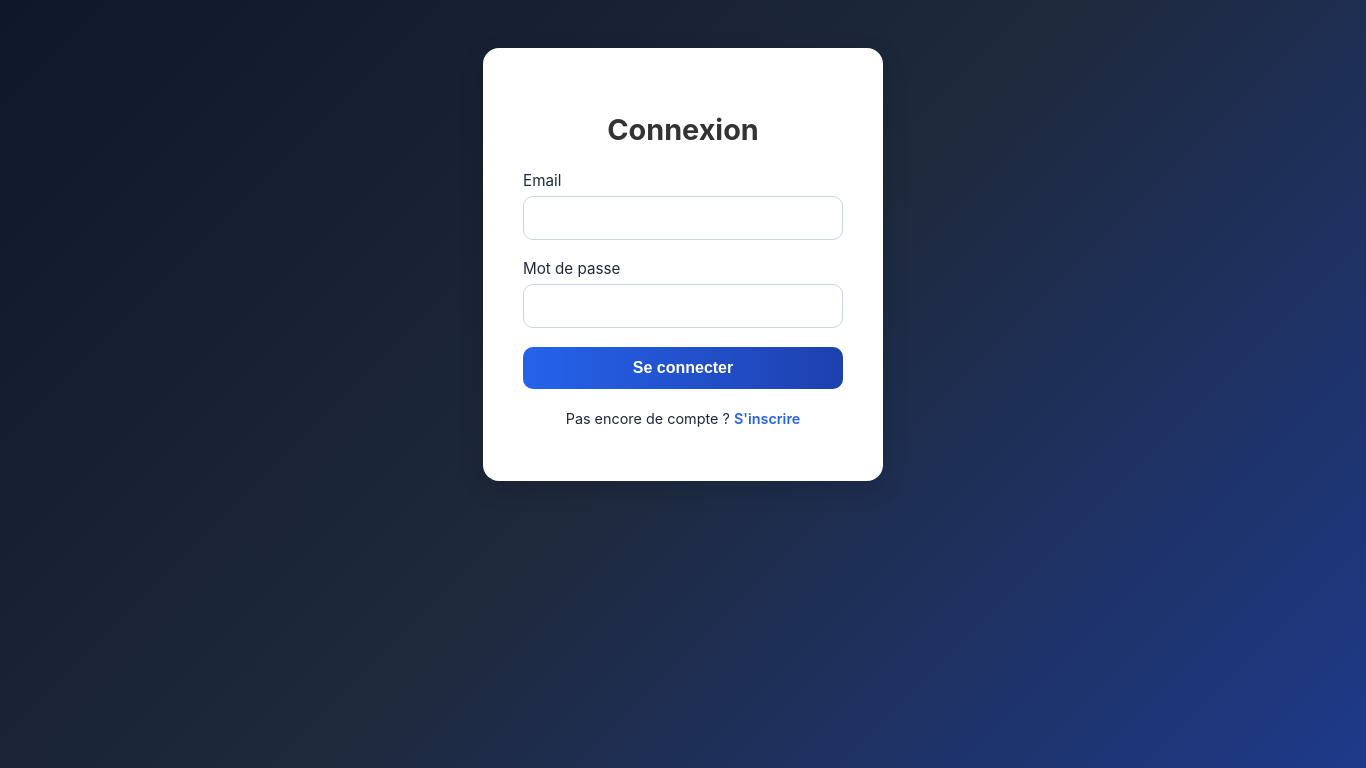
Test: Login Component › gère une connexion réussie : appel API, update contexte et redirection
// Remplissage du formulaire
Type "test@exemple.com" into the field labelled "Email" at coordinates (683, 218), box [523,196,843,240]
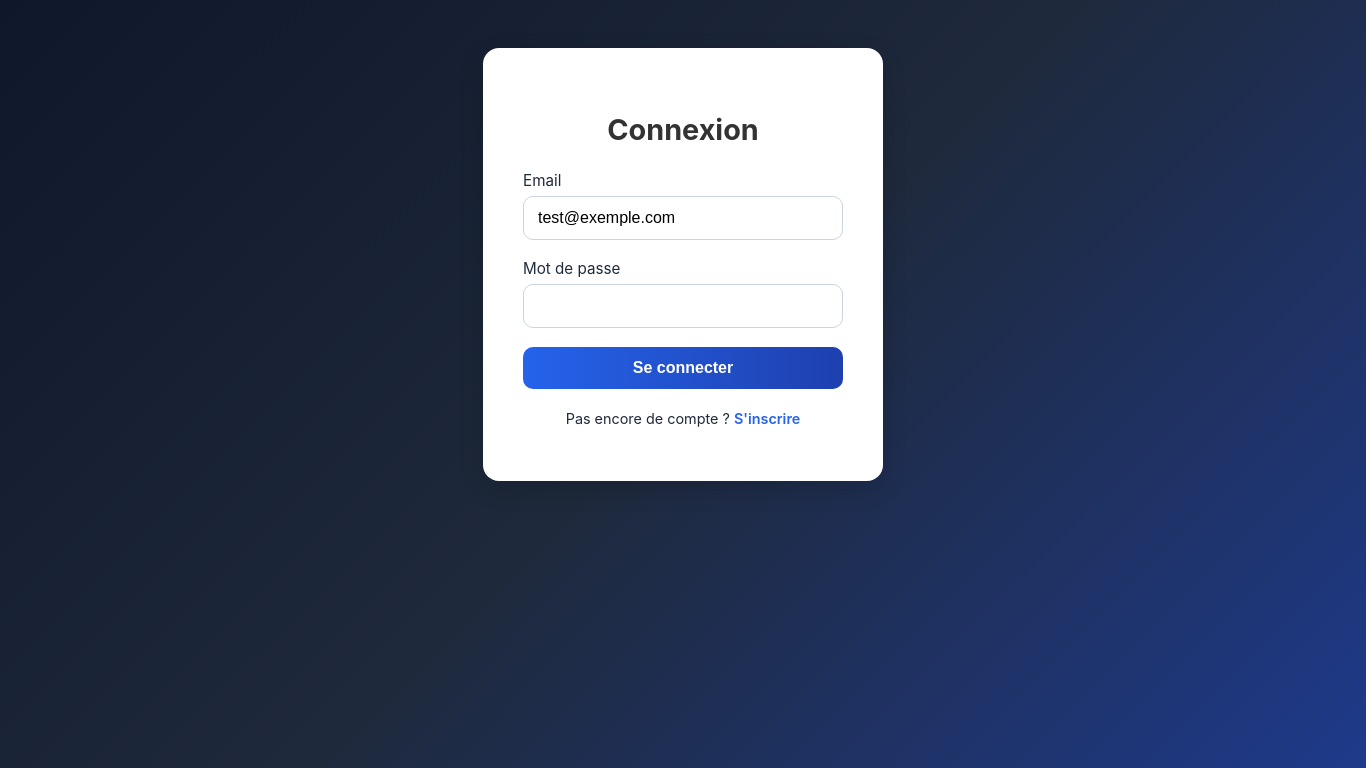
Type "secret123" into the password field labelled "Mot de passe" at coordinates (683, 306), box [523,284,843,328]
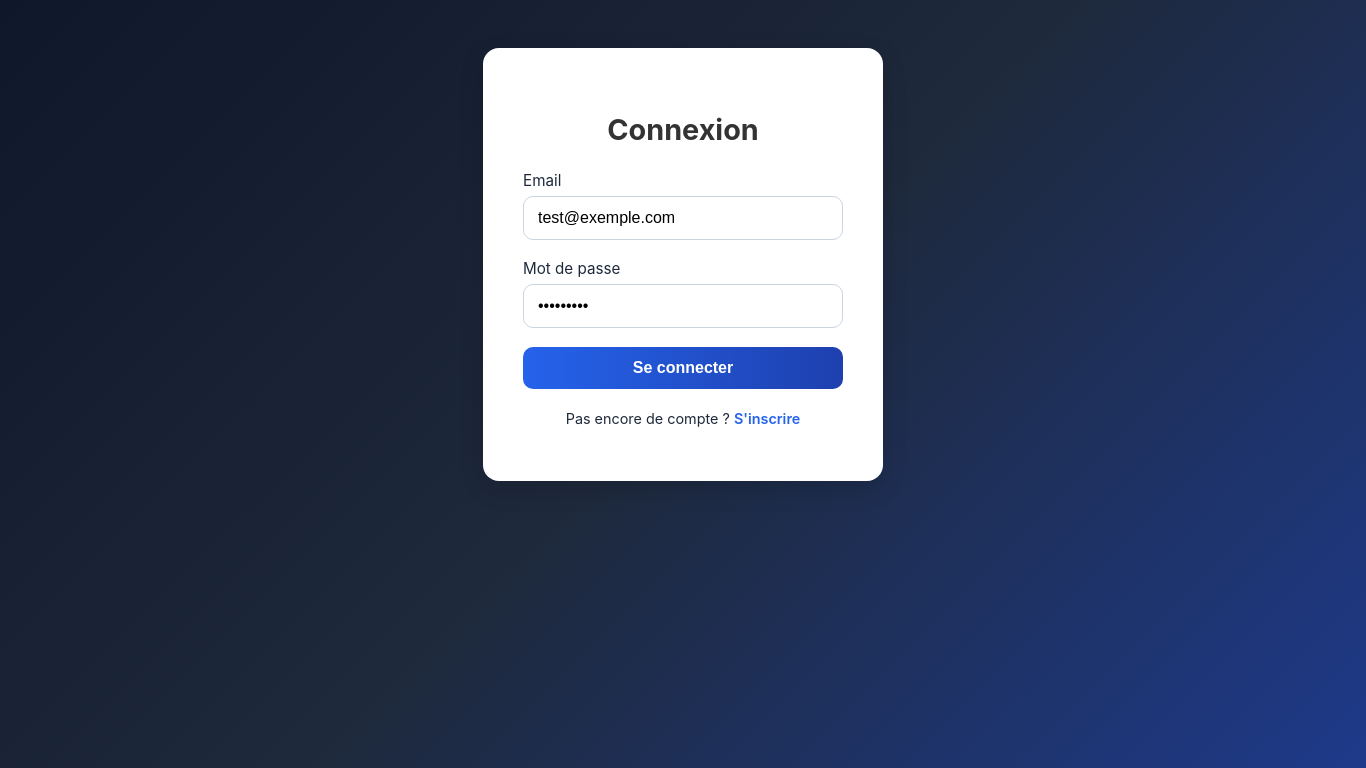
Click the button "Se connecter" at coordinates (683, 368), box [523,347,843,389]
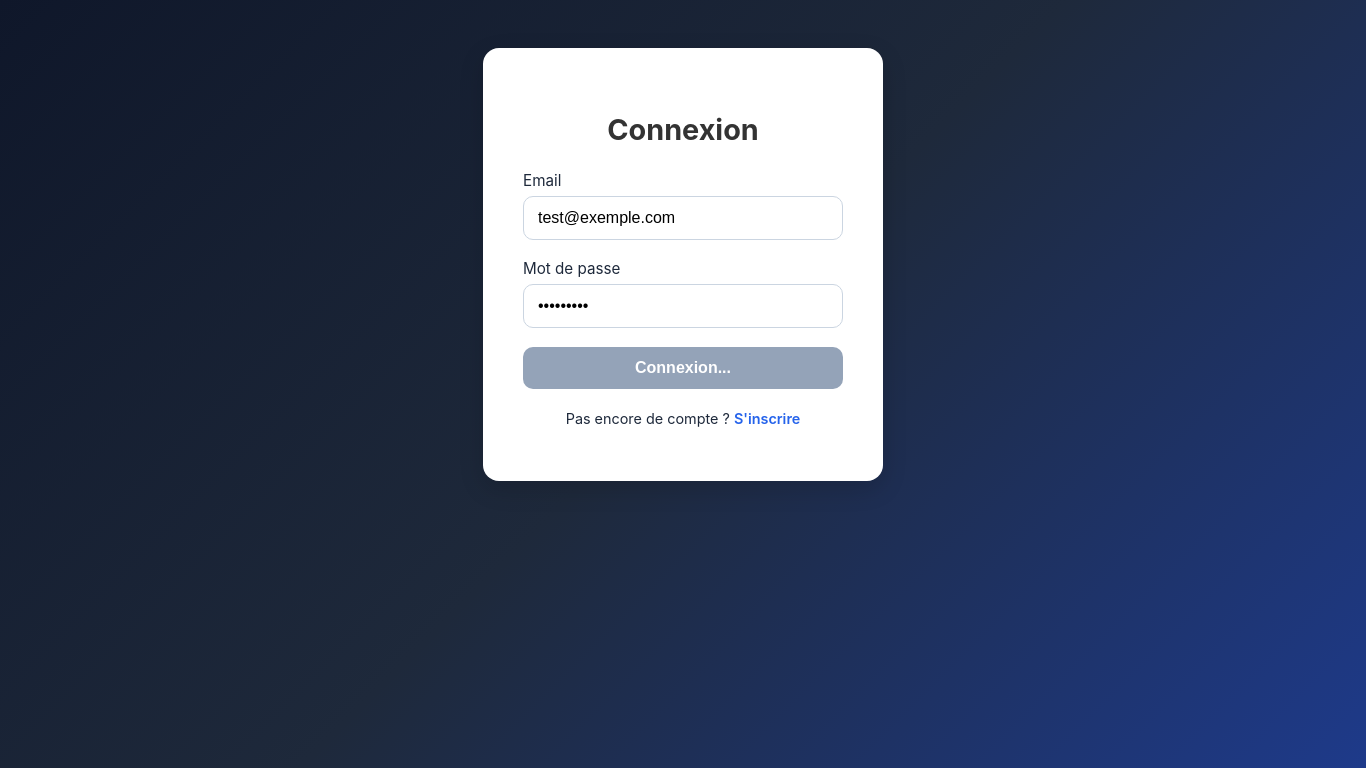
Result: the button named "se connecter" is disabled at [523,347,843,389]
Result: the button named "se connecter" reads "Connexion..." at [523,347,843,389]
